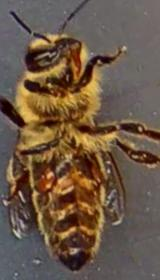varroa_mite: (27, 157, 58, 198), (82, 152, 110, 191)
